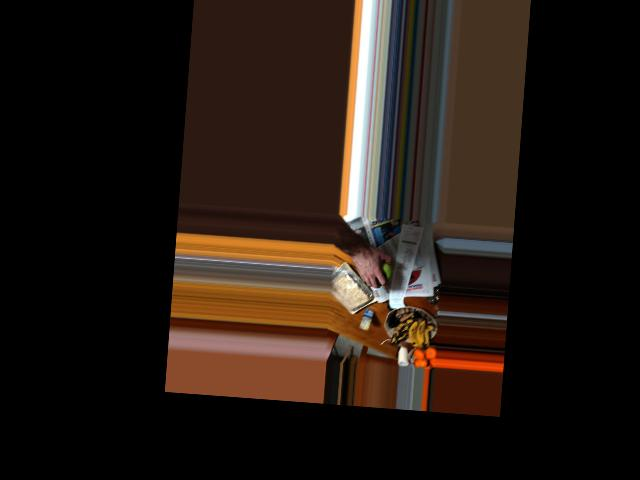apple: (365, 256, 392, 285)
